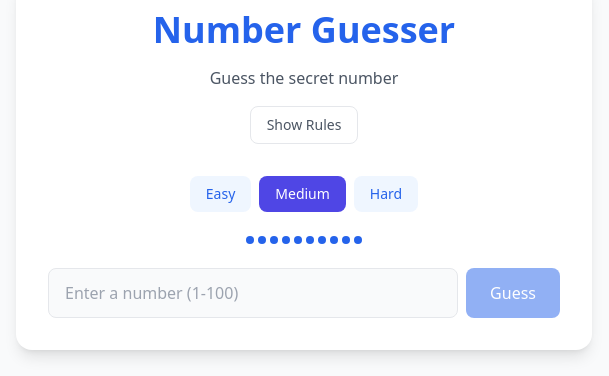
Test: NumberGuesser › should change difficulty levels
// Change to easy mode
Click the button "Easy" at point(221, 194), box [190,176,251,212]
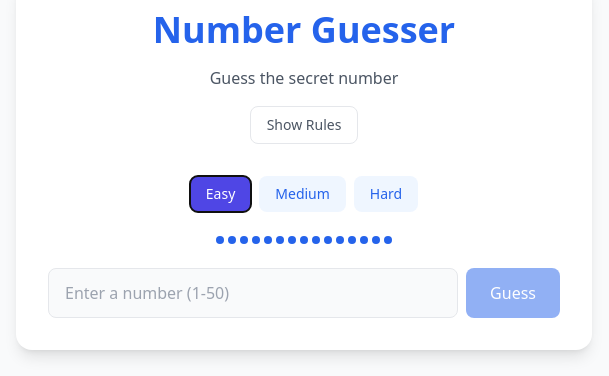
Now the number field with placeholder "Enter a number (1-50)" is shown, box [48,268,458,318]
// Change to hard mode
Click the button "Hard" at point(386, 194), box [354,176,418,212]
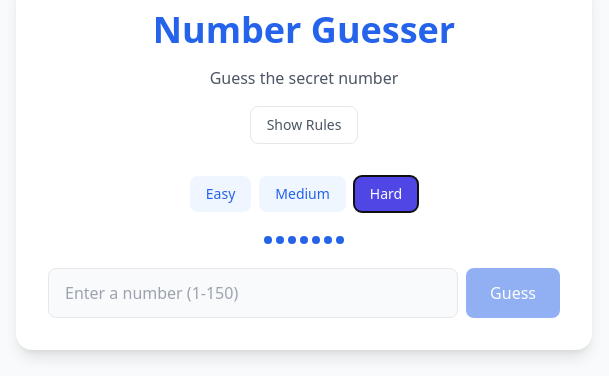
Now the number field with placeholder "Enter a number (1-150)" is shown, box [48,268,458,318]
